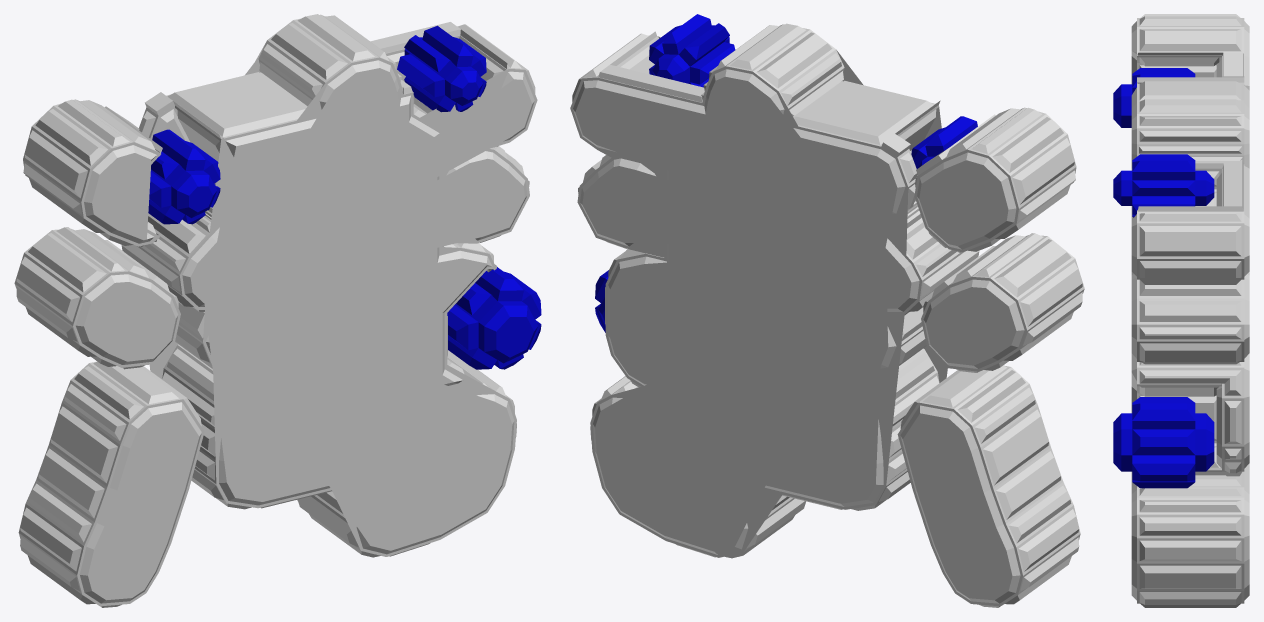
File: Ch_China_湾_01.fbx
3 views of the same model, side by side, from view 1: azimuth 30°, elevation 25°; view 2: azimuth 150°, elevation 25°; view 3: azimuth 270°, elevation 25° (orthographic). The views are drawn at different scales.
Parts seen in each view (by area): view 1: sphere1; view 2: sphere1; view 3: sphere1.
Boxes of the visible parts, x1,y1,x2,y2 form: sphere1: [14, 14, 541, 607]; sphere1: [570, 14, 1084, 607]; sphere1: [1113, 14, 1249, 607].
Bounding box in the file's own units: 0.9316 × 0.9669 × 0.2541.
